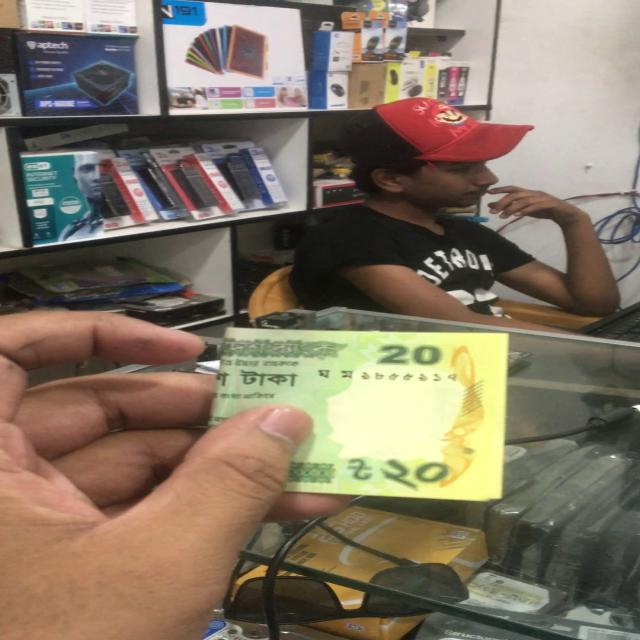Taka: (213, 322, 510, 500)
